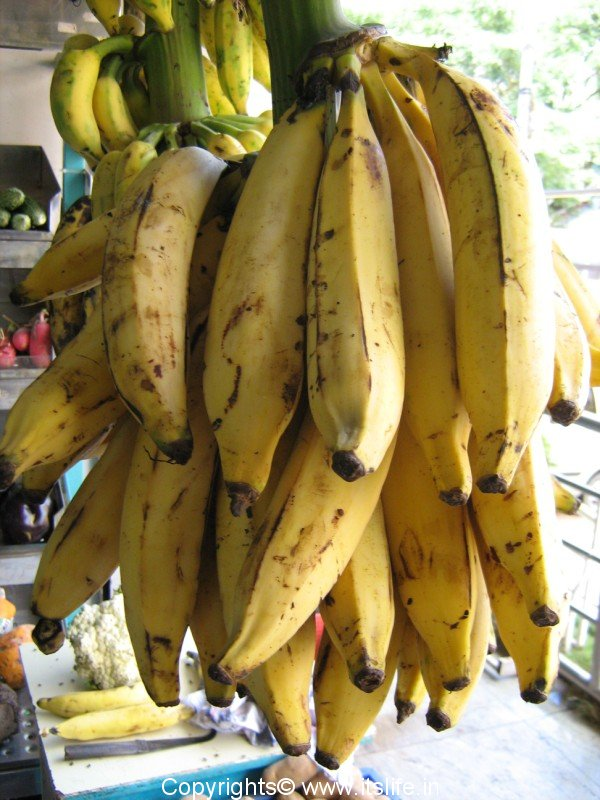banana: (436, 54, 567, 502), (203, 91, 335, 524), (296, 66, 423, 504), (76, 134, 232, 487), (194, 475, 381, 705), (116, 451, 217, 707), (475, 476, 576, 714), (23, 462, 132, 651), (382, 485, 484, 686), (327, 527, 411, 718), (16, 204, 116, 328), (44, 27, 112, 150), (207, 4, 261, 121)
